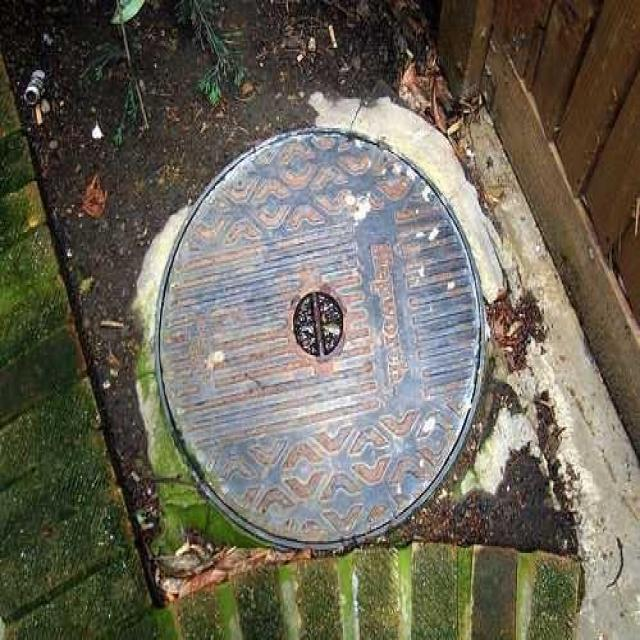manhole: (155, 128, 484, 549)
